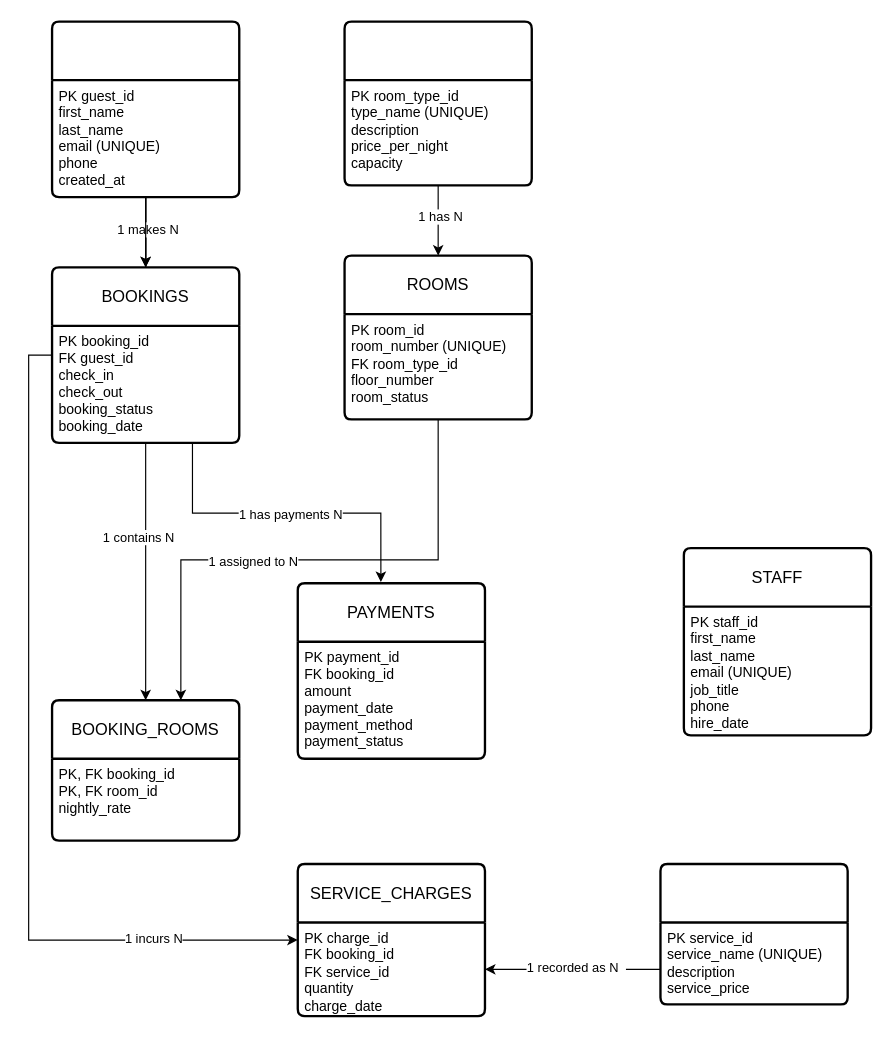
The diagram is 893 pixels wide and 1037 high, and some of its shapes have lost their labels. The shapes that lost their labels are listed below. From the top down, each one's box as (x1, y1, x2, y2) in pixels, then its label:
(50, 20, 240, 198): GUESTS
(343, 20, 532, 186): ROOM_TYPES
(659, 862, 848, 1005): SERVICES
